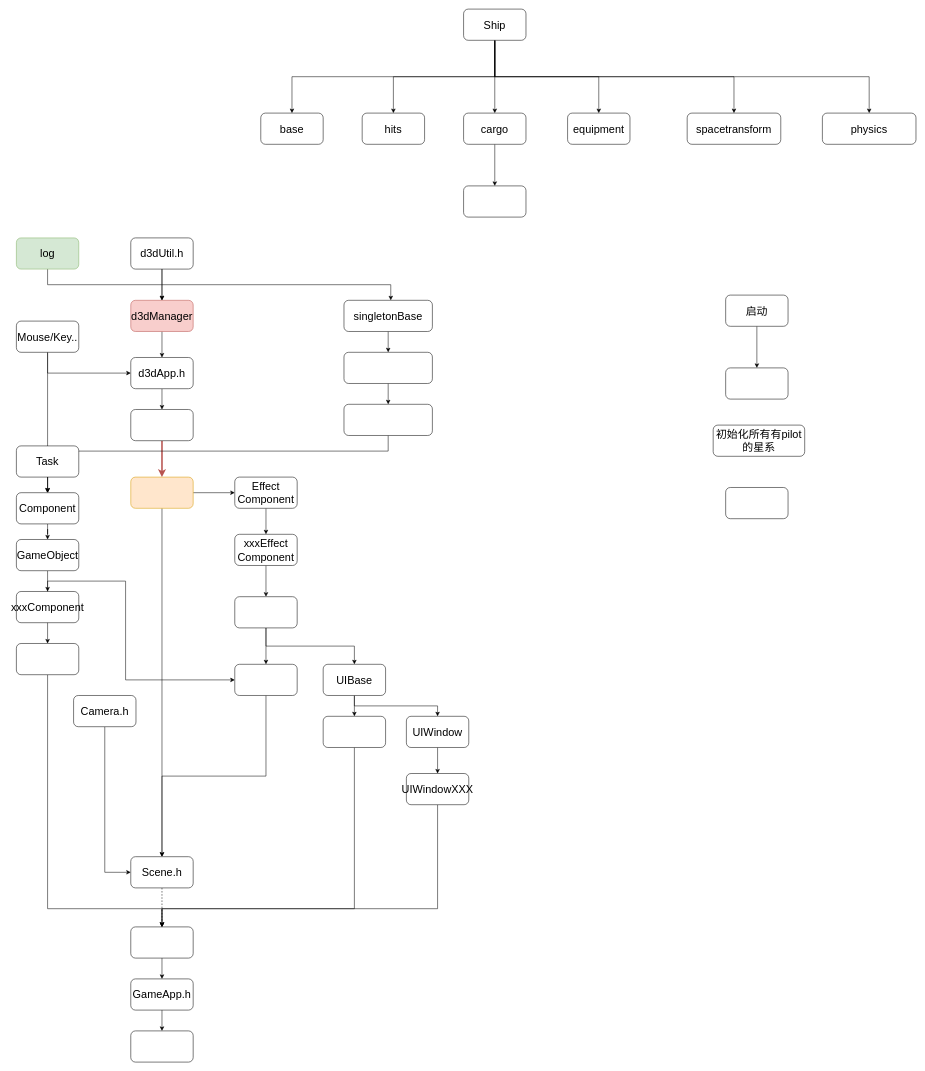
Some shapes in this 925 by 1071 pixel diagram are drawn without their labels. The centre of each missing label's shape, as x and y in pixels:
"core.h" belongs at (161,425).
"DatabaseManager" belongs at (387,368).
"ddsLoader" belongs at (161,492).
"droneCargo" belongs at (494,201).
"Effect" belongs at (265,612).
"Main.cpp" belongs at (161,1046).
"RenderProxy" belongs at (265,680).
"UIxxx" belongs at (354,732).
"xxxGameObject" belongs at (47,659).
"xxxManager" belongs at (387,420).
"xxxScene.h" belongs at (161,942).
"初始化所在星系" belongs at (756,503).
"选择当前pilot" belongs at (756,383).
